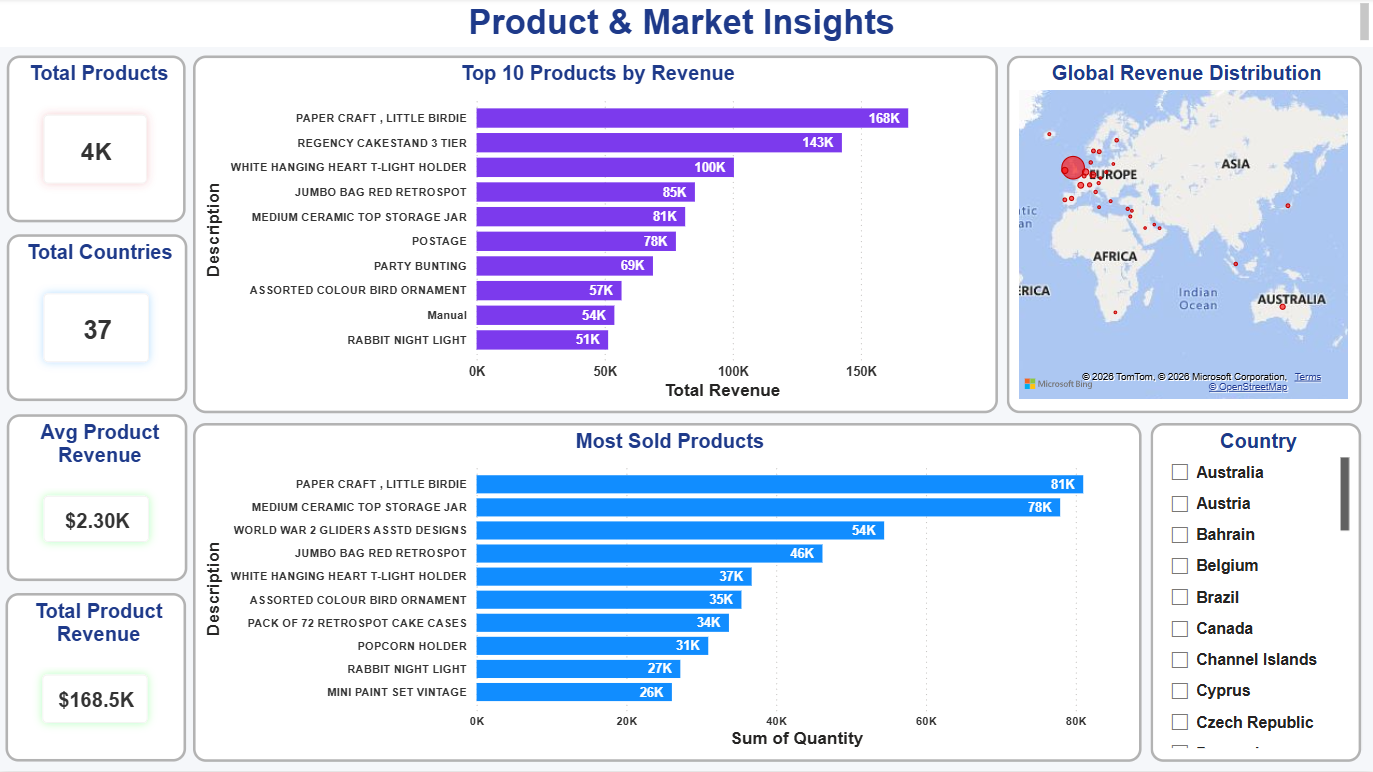

This screenshot's page, from the dashboard's own definition file:
{"tool":"powerbi","page":{"name":"Product & Market Insights","canvas":[1280,720],"ordinal":2},"visuals":[{"type":"textbox","box":[0,0,1280.2,45.3],"z":0},{"type":"cardVisual","title":"Total Products","fields":{"Data":["cleaned ecommerce data.Total Products"]},"box":[8.3,53.3,166.7,155],"z":1000},{"type":"cardVisual","title":"Avg Product Revenue","fields":{"Data":["cleaned ecommerce data.Avg Product Revenue"]},"box":[8.3,386.7,168.3,155],"z":2000},{"type":"cardVisual","title":"Total Product Revenue","fields":{"Data":["cleaned ecommerce data.Top Product Revenue"]},"box":[6.7,553.3,168.3,156.7],"z":3000},{"type":"cardVisual","title":"Total Countries","fields":{"Data":["cleaned ecommerce data.Total Countries"]},"box":[8.3,220,168.3,155],"z":4000},{"type":"clusteredBarChart","title":"Top 10 Products by Revenue","fields":{"Category":["cleaned ecommerce data.Description"],"Y":["cleaned ecommerce data.Total Revenue"]},"box":[181.2,53.8,748.8,332.5],"z":5000},{"type":"clusteredBarChart","title":"Most Sold Products","fields":{"Category":["cleaned ecommerce data.Description"],"Y":["Sum(cleaned ecommerce data.Quantity)"]},"box":[181.2,395,882.5,315],"z":6000},{"type":"map","title":"Global Revenue Distribution","fields":{"Category":["cleaned ecommerce data.Country"],"Size":["cleaned ecommerce data.Total Revenue"]},"box":[938.8,53.8,330,332.5],"z":7000},{"type":"slicer","title":"Country","fields":{"Values":["cleaned ecommerce data.Country"]},"box":[1072.5,395,196.2,315],"z":8000}]}

Visuals, with their boxes in screenshot pixels (x1, y1, x2, y2), scaled from the page's 1280x720 canvas onto the 1373x772 screenshot:
textbox: x1=0, y1=0, x2=1372, y2=49
"Total Products" cardVisual: x1=9, y1=57, x2=188, y2=223
"Avg Product Revenue" cardVisual: x1=9, y1=415, x2=189, y2=581
"Total Product Revenue" cardVisual: x1=7, y1=593, x2=188, y2=761
"Total Countries" cardVisual: x1=9, y1=236, x2=189, y2=402
"Top 10 Products by Revenue" clusteredBarChart: x1=194, y1=58, x2=998, y2=414
"Most Sold Products" clusteredBarChart: x1=194, y1=424, x2=1141, y2=761
"Global Revenue Distribution" map: x1=1007, y1=58, x2=1361, y2=414
"Country" slicer: x1=1150, y1=424, x2=1361, y2=761
